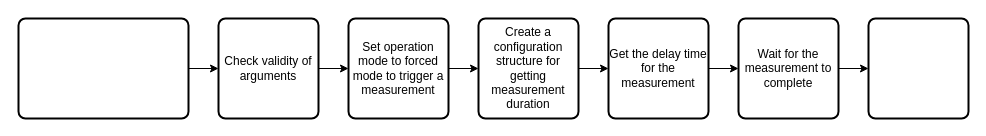
Some shapes in this 986 by 136 pixel diagram are drawn without their labels. Here are the shapes that lost their labels. From the top down, the centre of each, then its label:
(x=103, y=68): Input: *temp/*hum/*gas_resistance, *data, *bme
(x=918, y=68): Get the data
